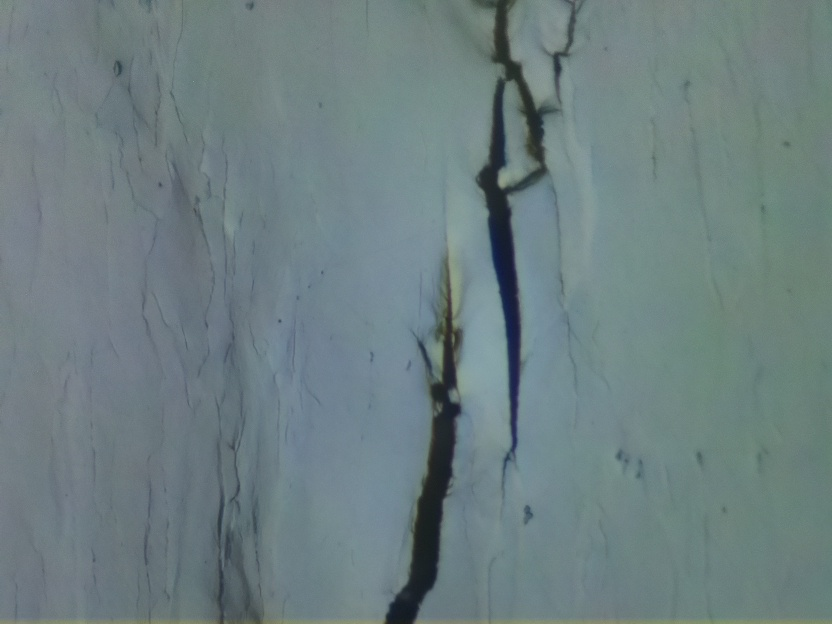crack: (475, 0, 582, 496), (385, 256, 460, 624)
